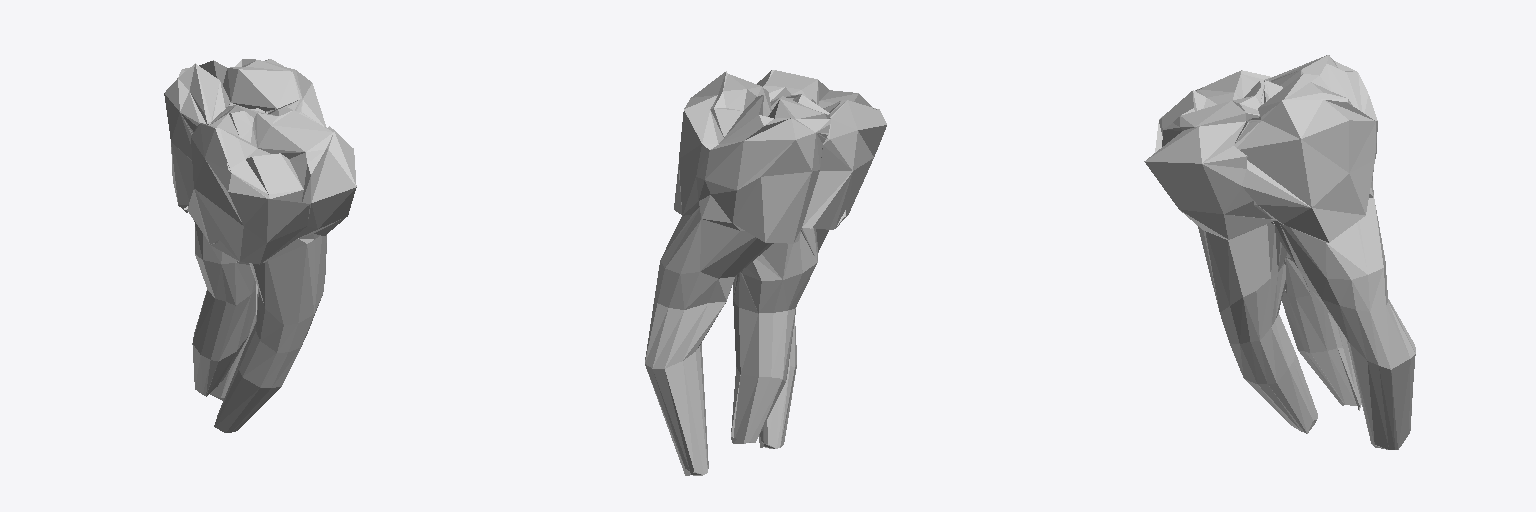
Rendered from Lower_Molar_Right_02.obj.
3 renders of one model, left to right at view 1: azimuth 30°, elevation 25°; view 2: azimuth 150°, elevation 25°; view 3: azimuth 270°, elevation 25°, orthographic.
Parts seen in each view (by area): view 1: Lower_Molar_Right_02 Lower_Teeth Teeth group1; view 2: Lower_Molar_Right_02 Lower_Teeth Teeth group1; view 3: Lower_Molar_Right_02 Lower_Teeth Teeth group1.
Boxes of the visible parts, x1,y1,x2,y2 form: Lower_Molar_Right_02 Lower_Teeth Teeth group1: [164, 59, 356, 432]; Lower_Molar_Right_02 Lower_Teeth Teeth group1: [645, 70, 886, 475]; Lower_Molar_Right_02 Lower_Teeth Teeth group1: [1144, 55, 1415, 449].
Bounding box in the file's own units: 0.1108 × 0.2639 × 0.1766.